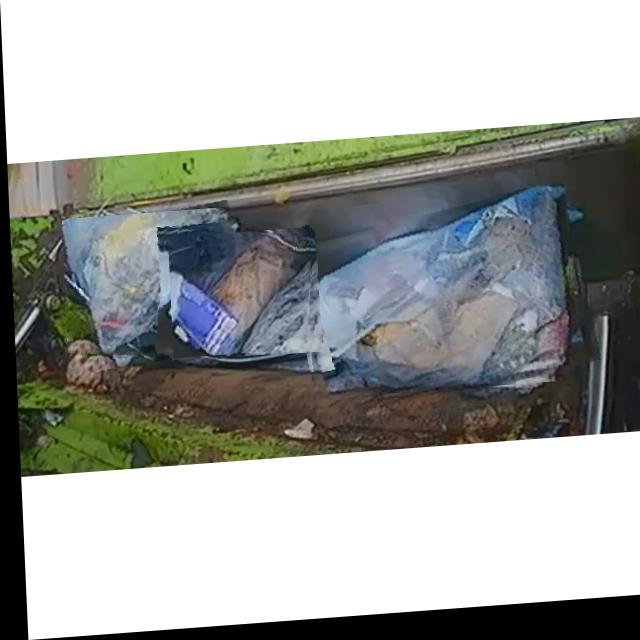other_trashbag: (301, 195, 563, 396), (60, 211, 227, 359), (167, 240, 308, 359)
